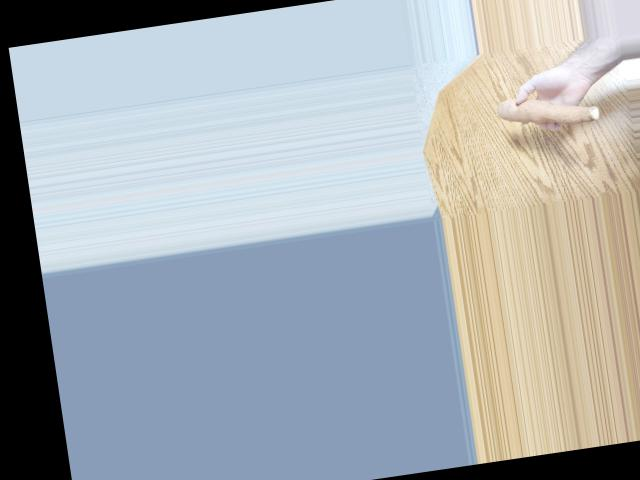sweet_potato: (490, 91, 597, 136)
